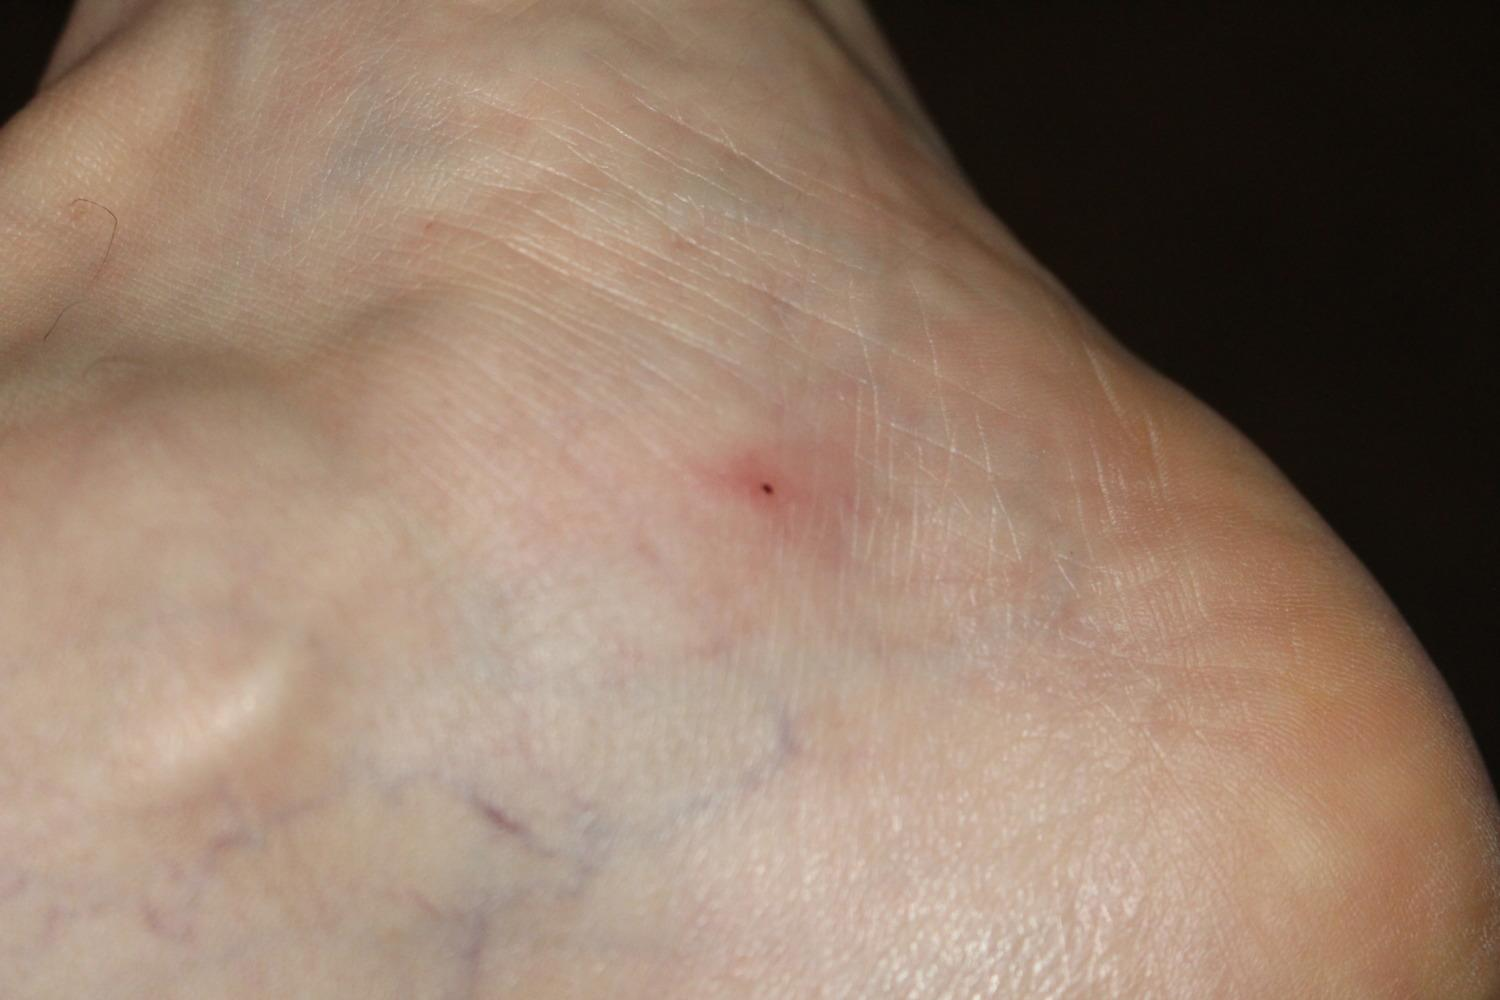Gnat-bites: (692, 435, 856, 590)
